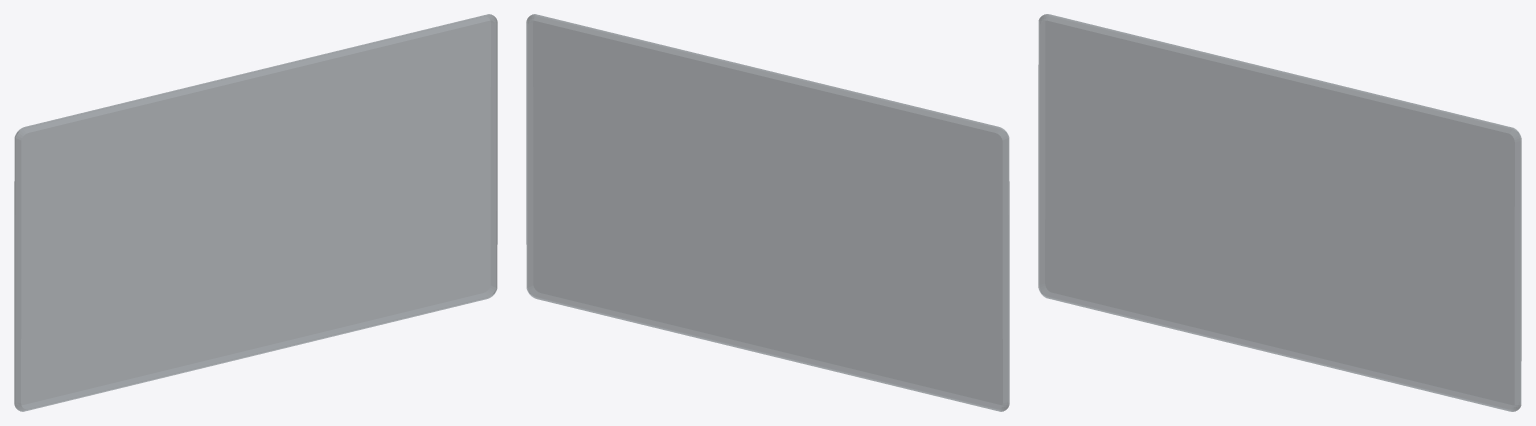
The model's file is evidence-pane.glb.
3 views of the same model, side by side, from view 1: azimuth 30°, elevation 25°; view 2: azimuth 150°, elevation 25°; view 3: azimuth 330°, elevation 25° (orthographic).
Parts seen in each view (by area): view 1: pane; view 2: pane; view 3: pane.
Part boxes in pixels (x1,y1,x2,y2): pane: (14,14,497,411); pane: (526,14,1009,411); pane: (1038,14,1521,411).
Size of the model in its own units: 1.6 by 0.9 by 0.03.
1 material, 1 textured.
